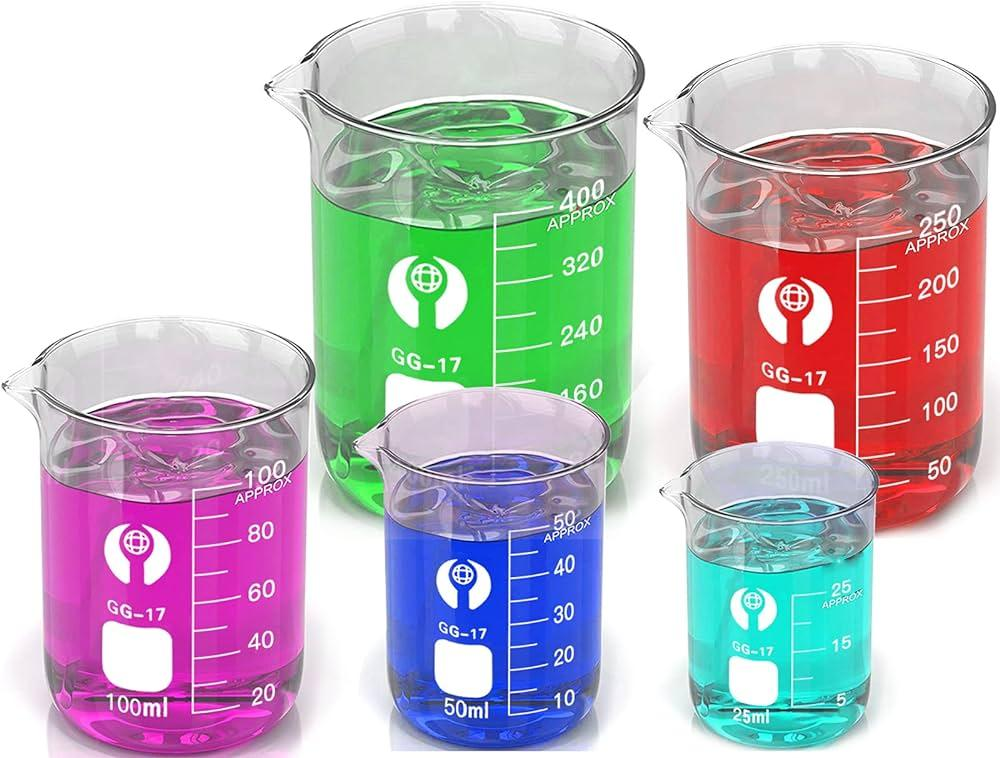Beaker: (249, 21, 639, 514), (652, 35, 996, 515), (5, 307, 321, 751), (351, 400, 614, 745), (663, 451, 876, 749)
